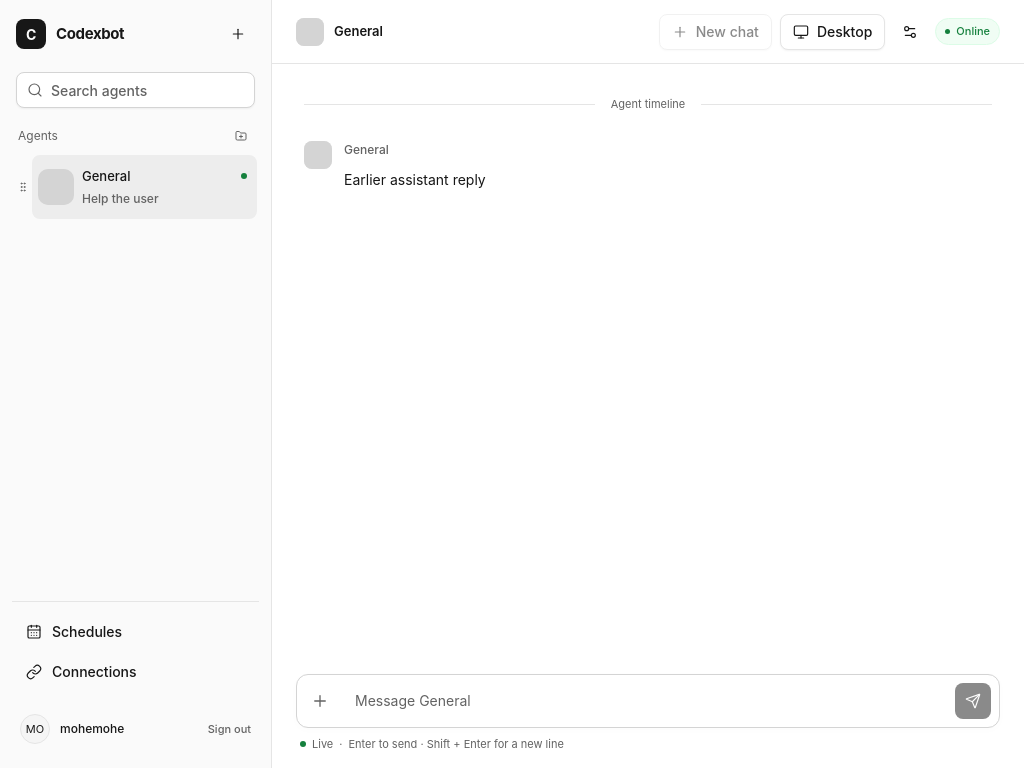
it: Agent icon settings › removes the saved icon explicitly and restores fallback avatars
Expected: the text "Earlier assistant reply" is shown, [344,168,486,192]
Click the button named "Agent settings": {"x": 910, "y": 32} [893,14,927,48]
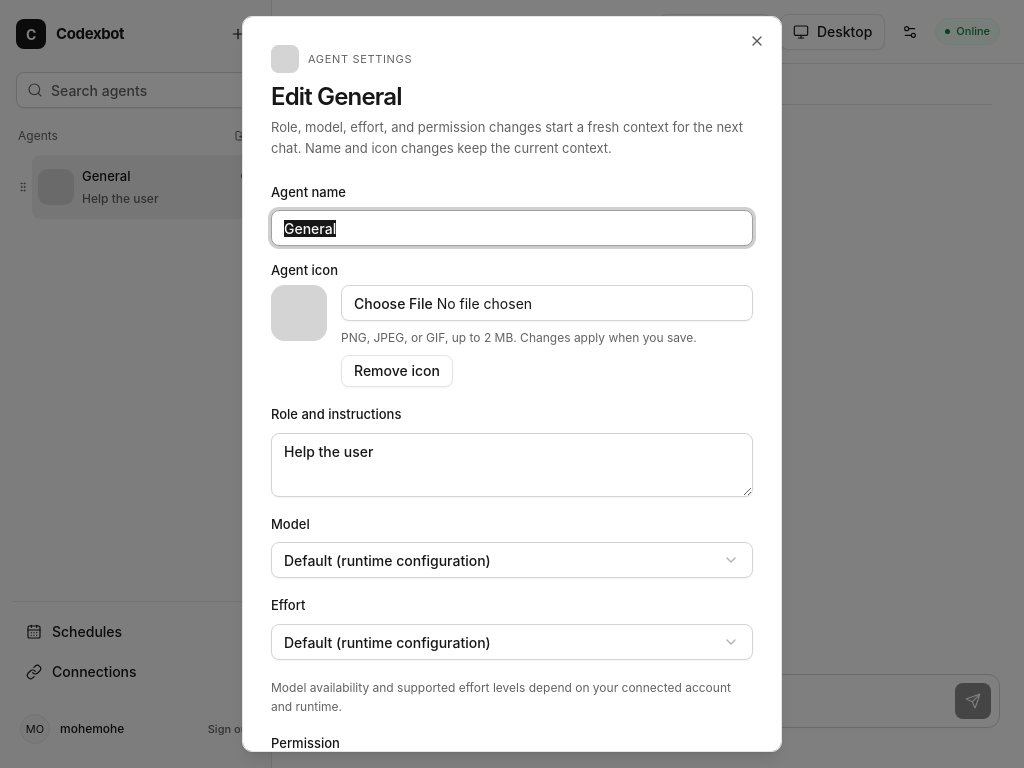
Click the button "Remove icon": {"x": 397, "y": 371} [341,355,453,387]
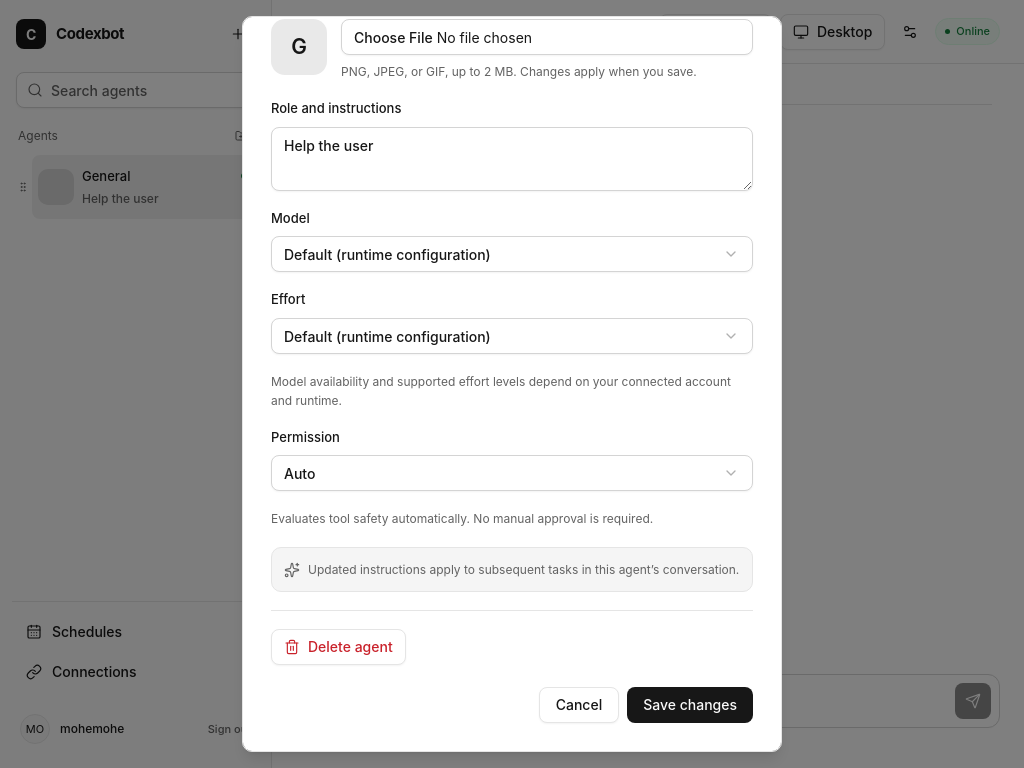
Click the button "Save changes": {"x": 690, "y": 705} [627,687,753,723]
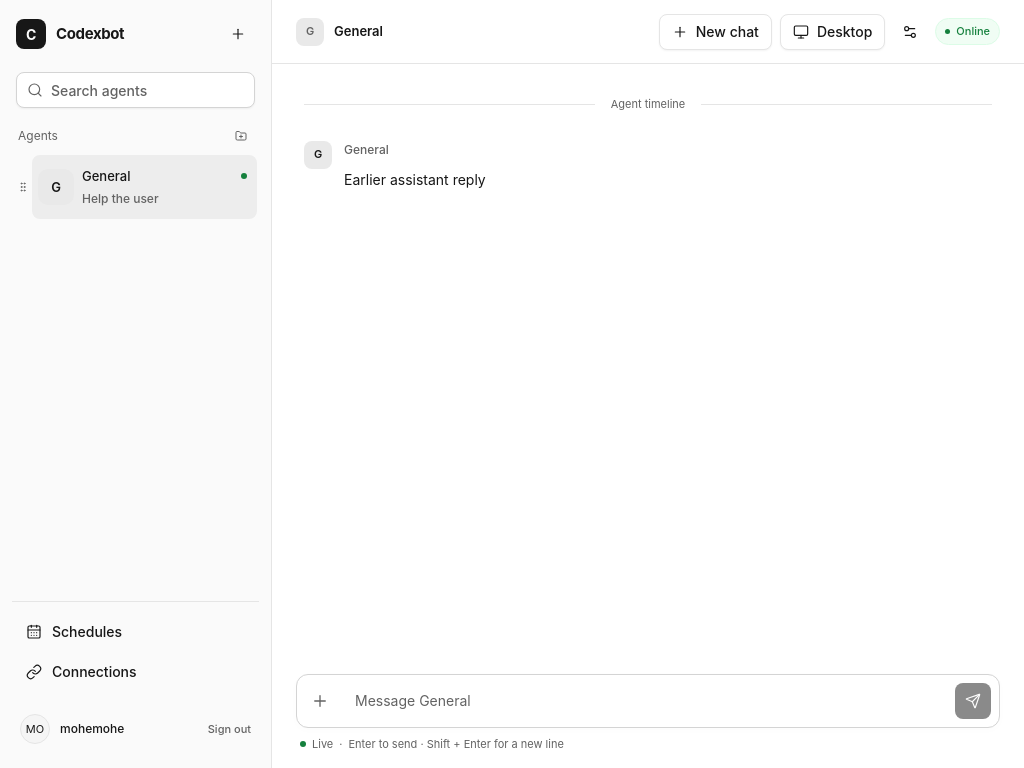
Expected: the dialog is gone
Expected: the picture is gone
Expected: the 2nd element showing "G" is shown, [304,140,332,168]
